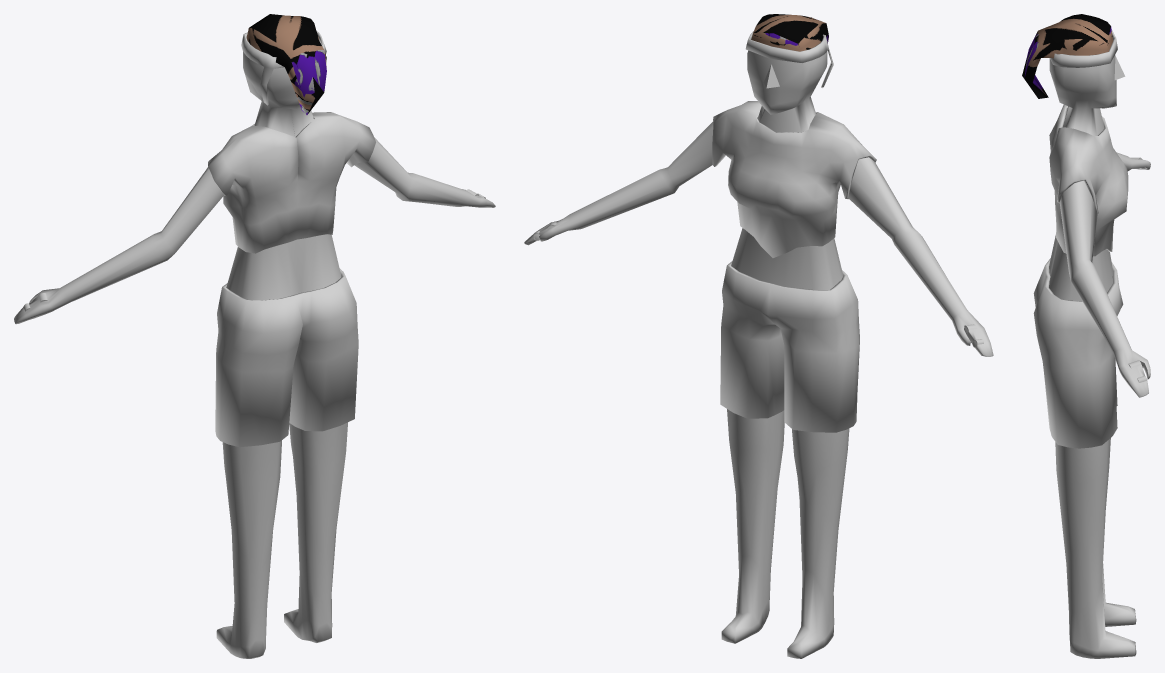
The model's file is AlexisBruce.obj.
3 renders of one model, left to right at view 1: azimuth 30°, elevation 25°; view 2: azimuth 150°, elevation 25°; view 3: azimuth 270°, elevation 25°, orthographic. The views are drawn at different scales.
Parts seen in each view (by area): view 1: Body.001_Cube.018, Pants.001_Cube.019, Shirt.001_Cube.020, Hair.001_Cube.022, HeadBand.001_Cube.021; view 2: Body.001_Cube.018, Pants.001_Cube.019, Shirt.001_Cube.020, Hair.001_Cube.022, HeadBand.001_Cube.021; view 3: Body.001_Cube.018, Pants.001_Cube.019, Shirt.001_Cube.020, Hair.001_Cube.022, HeadBand.001_Cube.021.
Part boxes in pixels (x1=…): Body.001_Cube.018: x1=14, y1=51, x2=495, y2=658; Pants.001_Cube.019: x1=215, y1=268, x2=358, y2=447; Shirt.001_Cube.020: x1=208, y1=112, x2=375, y2=253; Hair.001_Cube.022: x1=246, y1=14, x2=326, y2=114; HeadBand.001_Cube.021: x1=241, y1=31, x2=326, y2=105; Body.001_Cube.018: x1=524, y1=50, x2=993, y2=658; Pants.001_Cube.019: x1=720, y1=261, x2=859, y2=432; Shirt.001_Cube.020: x1=712, y1=101, x2=876, y2=257; Hair.001_Cube.022: x1=751, y1=14, x2=828, y2=51; HeadBand.001_Cube.021: x1=745, y1=31, x2=833, y2=88; Body.001_Cube.018: x1=1049, y1=55, x2=1150, y2=658; Pants.001_Cube.019: x1=1033, y1=258, x2=1123, y2=448; Shirt.001_Cube.020: x1=1049, y1=104, x2=1128, y2=256; Hair.001_Cube.022: x1=1022, y1=14, x2=1113, y2=98; HeadBand.001_Cube.021: x1=1050, y1=29, x2=1117, y2=67.
Bounding box in the file's own units: 11.59 × 14.49 × 2.75.
